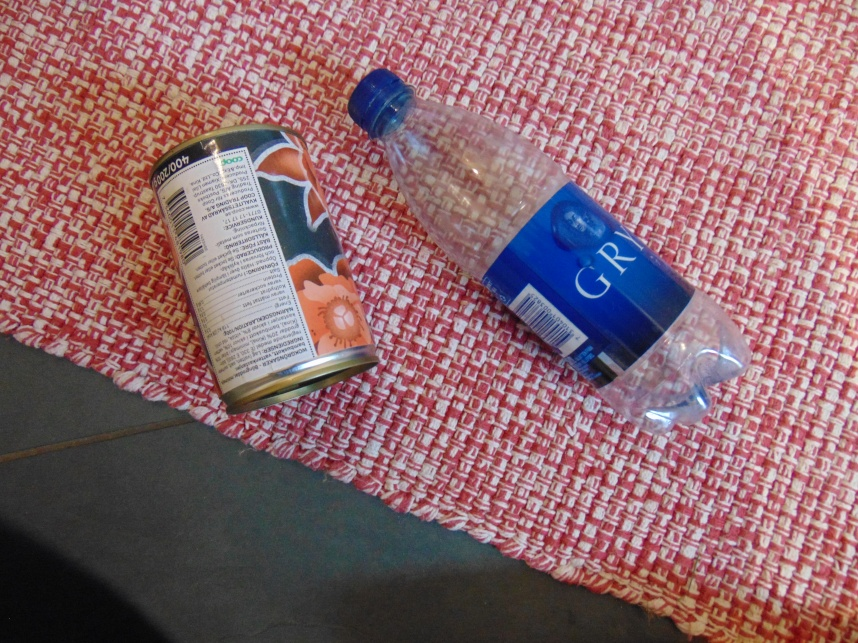metal_can: (147, 124, 382, 415)
plastic_bottle: (347, 67, 748, 441)
